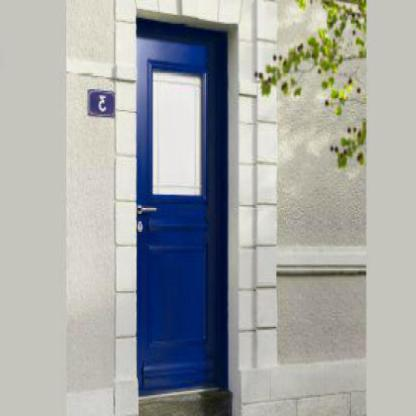door: (122, 5, 245, 413)
